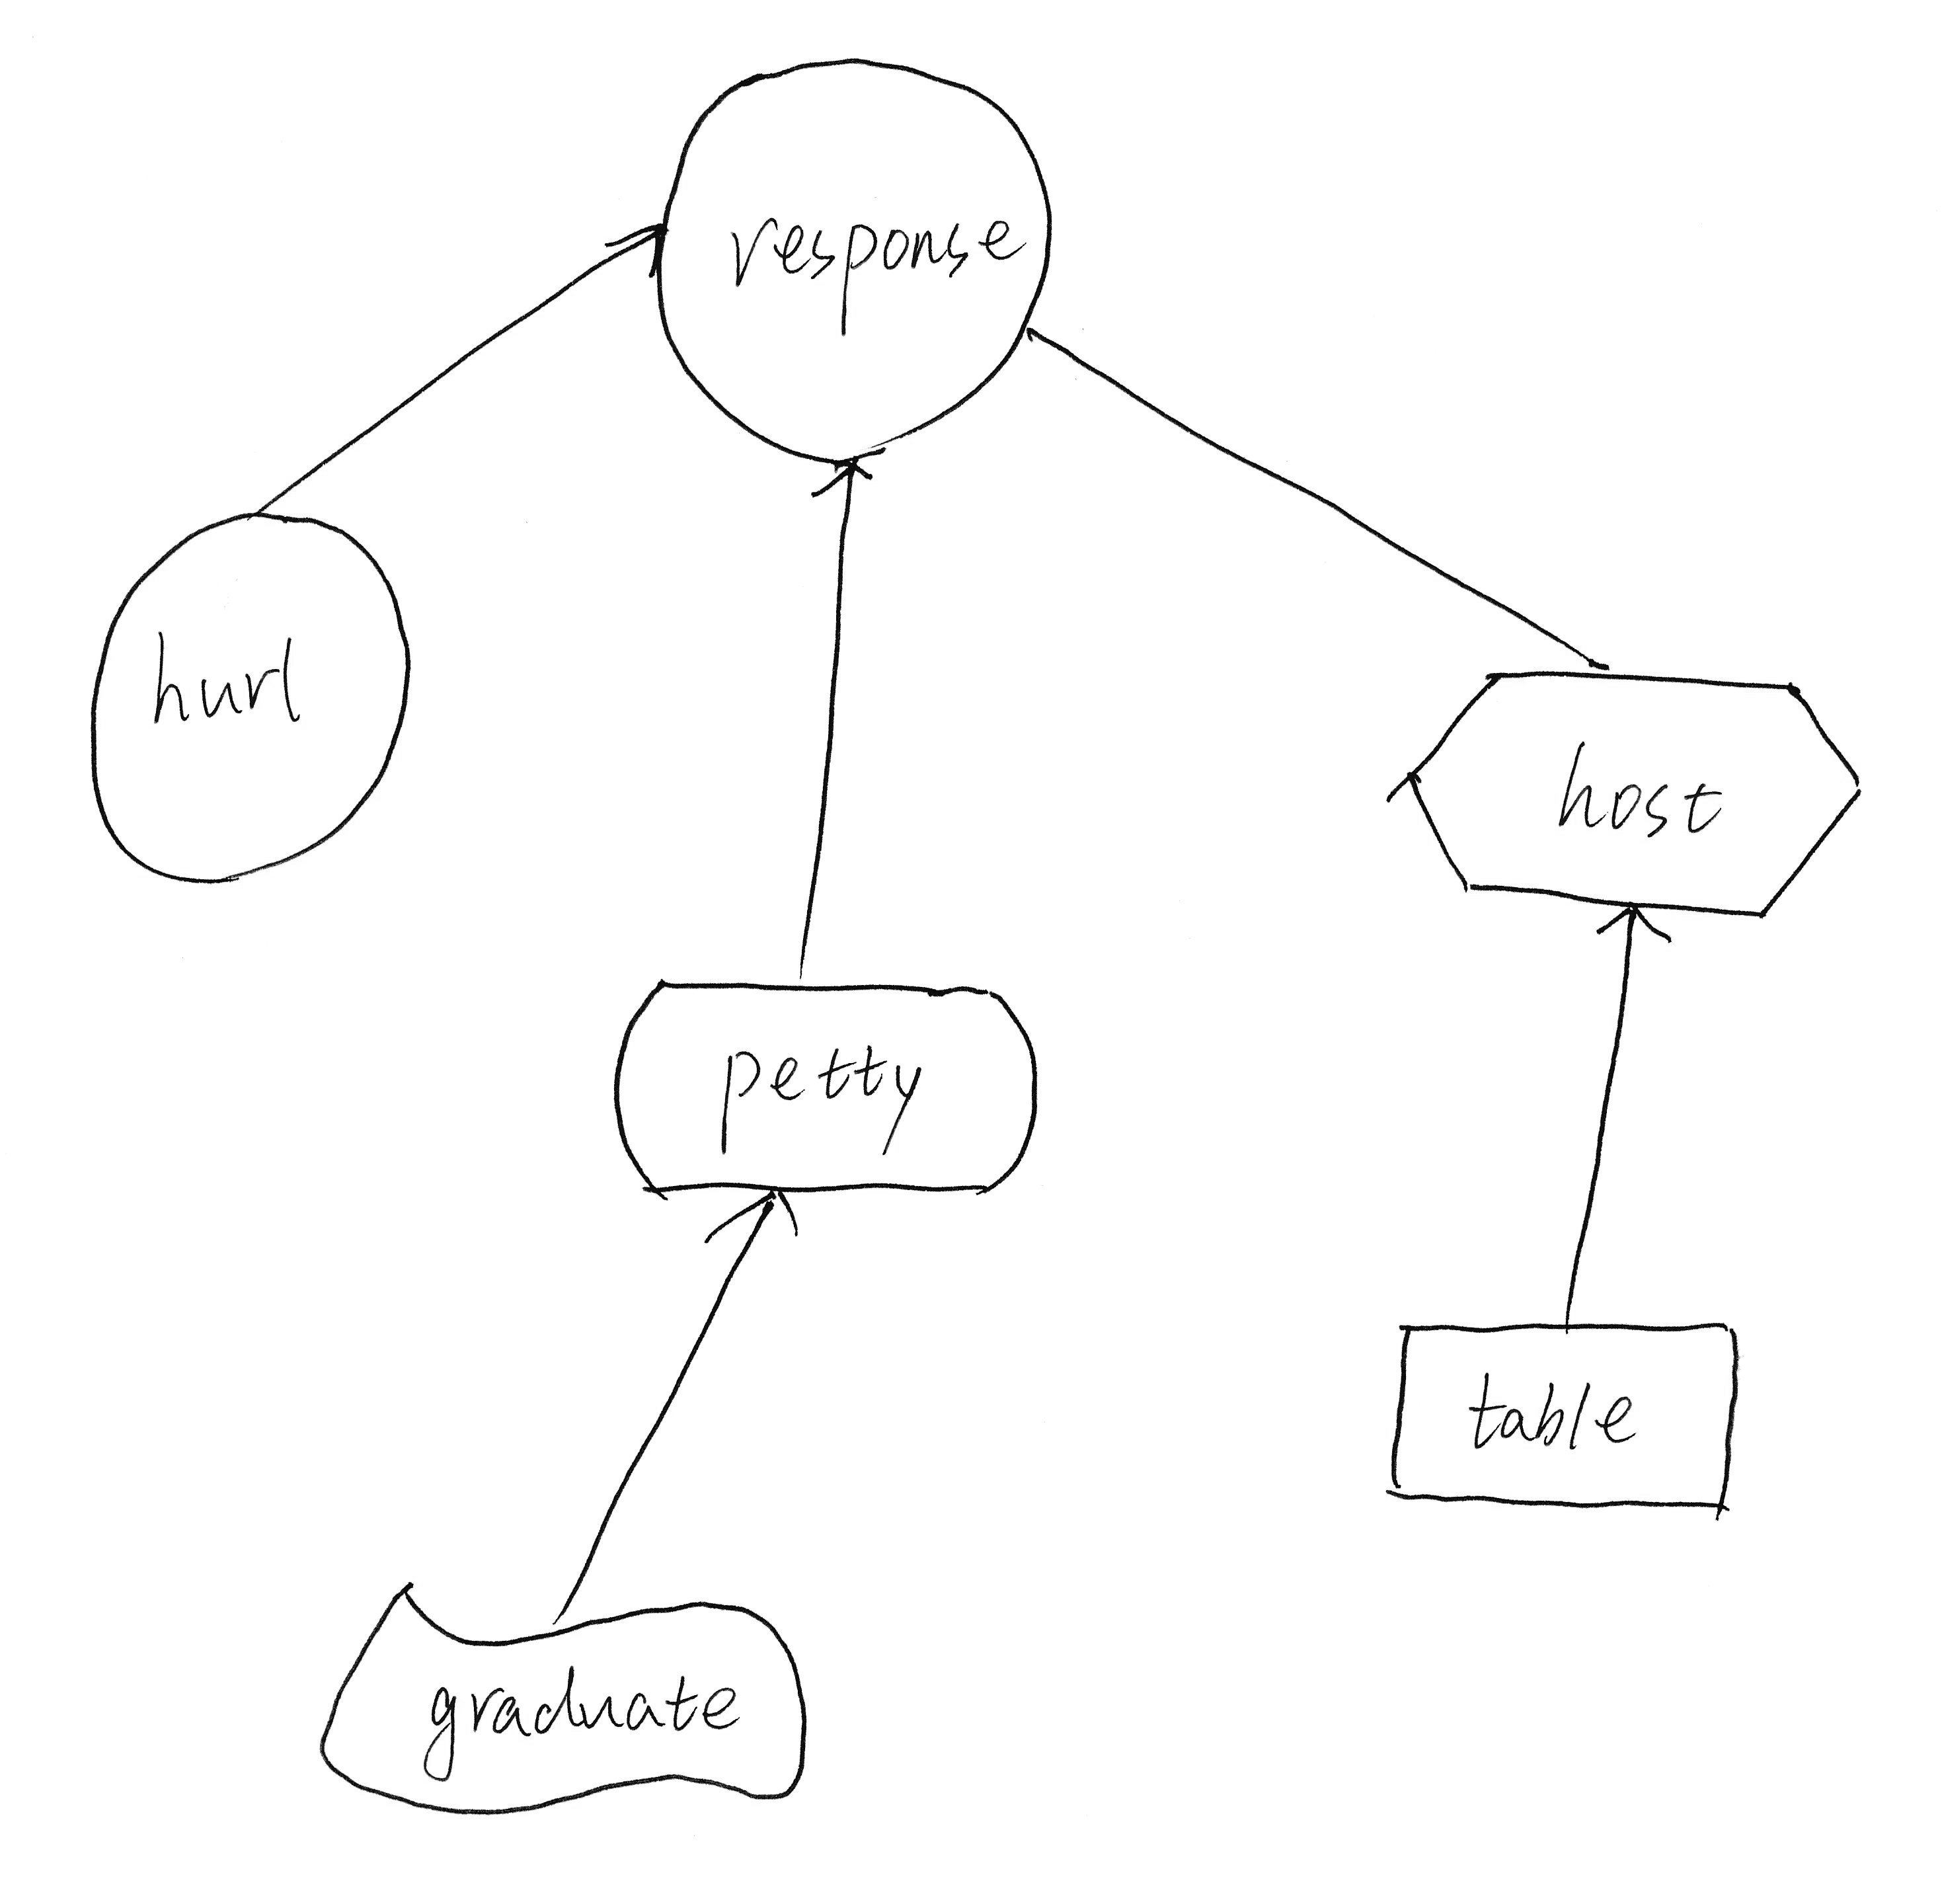actor: (635, 33, 1074, 479), (56, 492, 450, 900)
arrow: (694, 1179, 821, 1259), (596, 206, 676, 307), (1574, 900, 1693, 962), (798, 453, 893, 511)
goal: (603, 950, 1051, 1210)
quality: (303, 1557, 830, 1833)
resource: (1365, 1294, 1759, 1548)
task: (1379, 650, 1884, 936)
